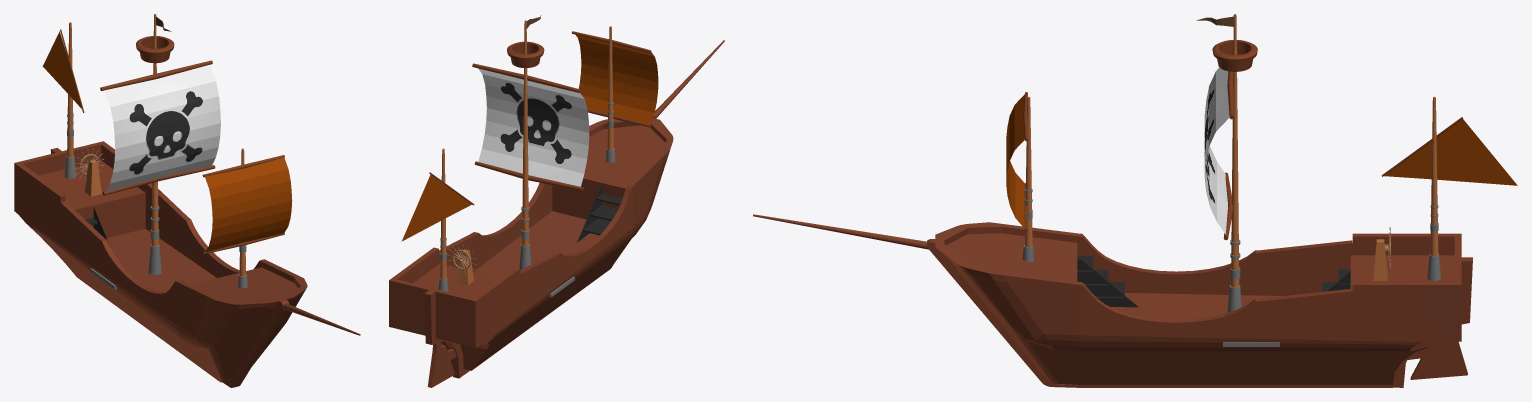
File: Ship.fbx
The picture shows the model from 3 angles, left to right: view 1: azimuth 30°, elevation 25°; view 2: azimuth 150°, elevation 25°; view 3: azimuth 270°, elevation 25°; orthographic projection. The views are drawn at different scales.
Visible parts, largest first — view 1: Cube; view 2: Cube; view 3: Cube.
Part boxes in pixels (bbox=[...]): Cube: bbox=[14, 14, 360, 387]; Cube: bbox=[389, 15, 724, 387]; Cube: bbox=[753, 14, 1517, 387].
Size of the model in its own units: 3.78 by 10.3 by 19.23.
Materials: 9 (1 with a texture image).
